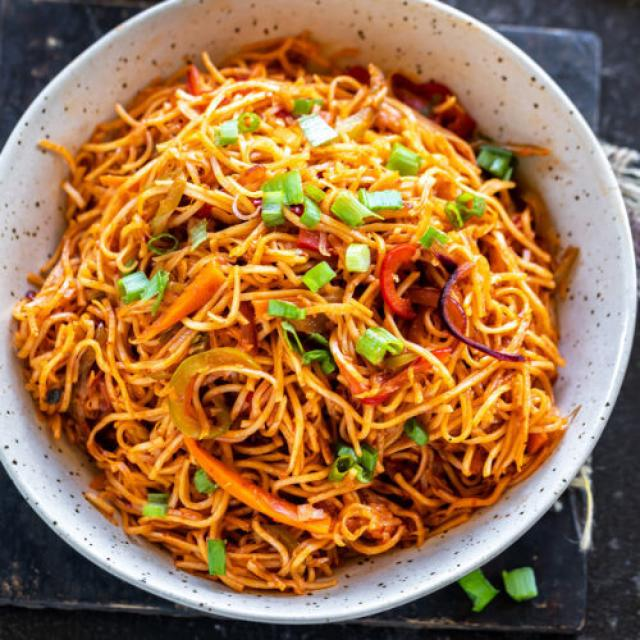noodle: (38, 48, 564, 592)
